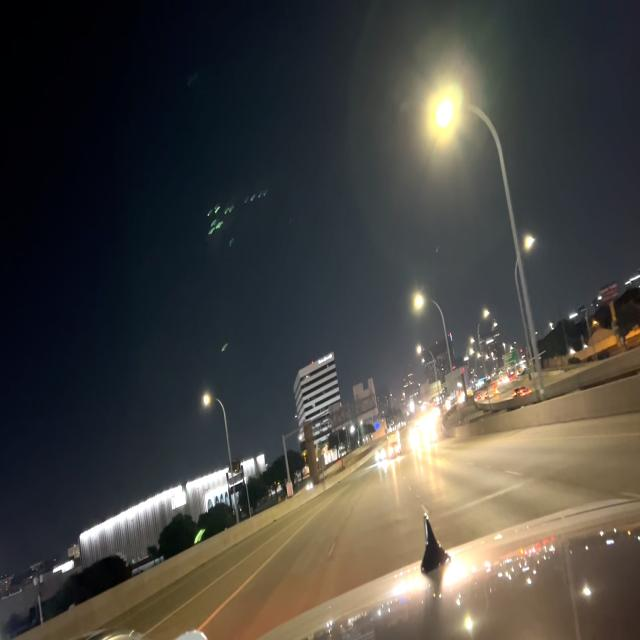back-of-sign: (353, 379, 379, 427), (330, 396, 351, 434)
